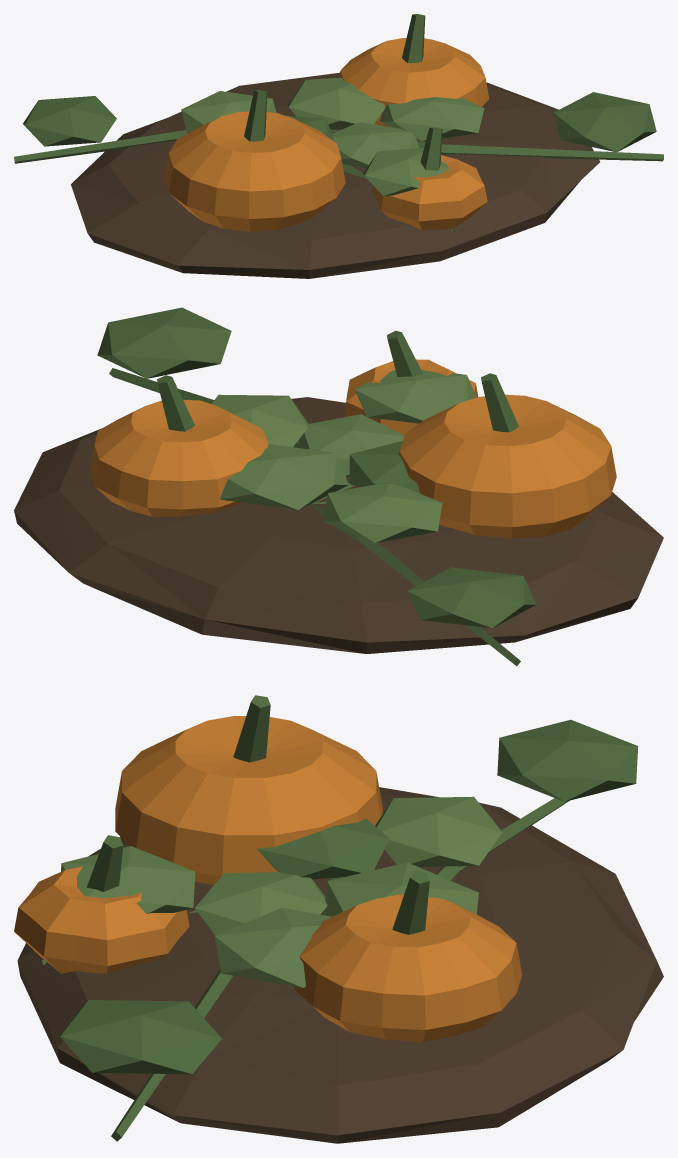
The model's file is garden_pumpkins.glb.
3 renders of one model, top to bottom at view 1: azimuth 30°, elevation 25°; view 2: azimuth 150°, elevation 25°; view 3: azimuth 270°, elevation 25°, orthographic. The views are drawn at different scales.
Parts seen in each view (by area): view 1: Garden_Pumpkins; view 2: Garden_Pumpkins; view 3: Garden_Pumpkins.
Boxes of the visible parts, left/top/right/bottom form: Garden_Pumpkins: left=14, top=14, right=663, bottom=278; Garden_Pumpkins: left=14, top=307, right=663, bottom=666; Garden_Pumpkins: left=14, top=695, right=663, bottom=1143.
Bounding box in the file's own units: 1.48 × 0.3851 × 1.1.
